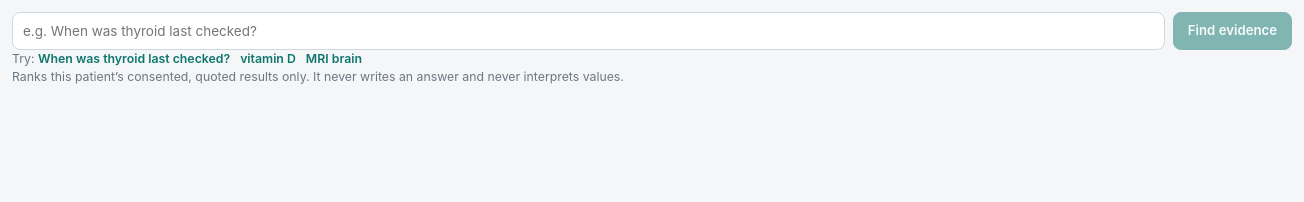
EvidenceFinder › shows an explicit abstention instead of an answer
Step 1. Click the button "MRI brain" → {"x": 334, "y": 59}, box [306,50,362,68]
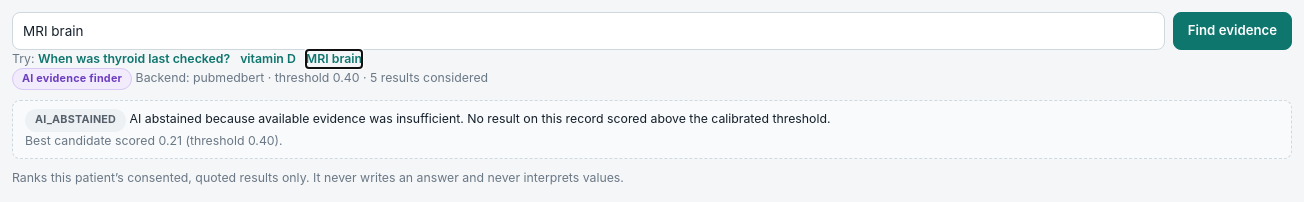
Expected: the element labelled "AI abstained" shows "AI abstained because available evidence was insufficient", [126,111,467,126]
Expected: the element labelled "AI abstained" shows "No result on this record scored above the calibrated threshold.", [467,111,830,126]
